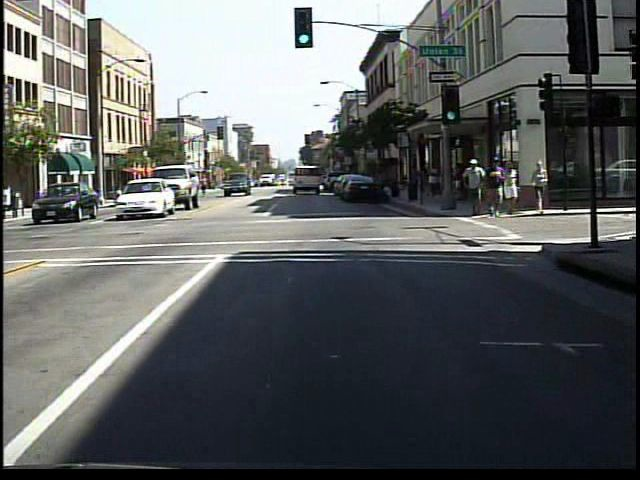person: (463, 157, 489, 220), (484, 156, 509, 219), (530, 157, 555, 220), (504, 159, 522, 219), (426, 158, 445, 206), (198, 173, 215, 201)
